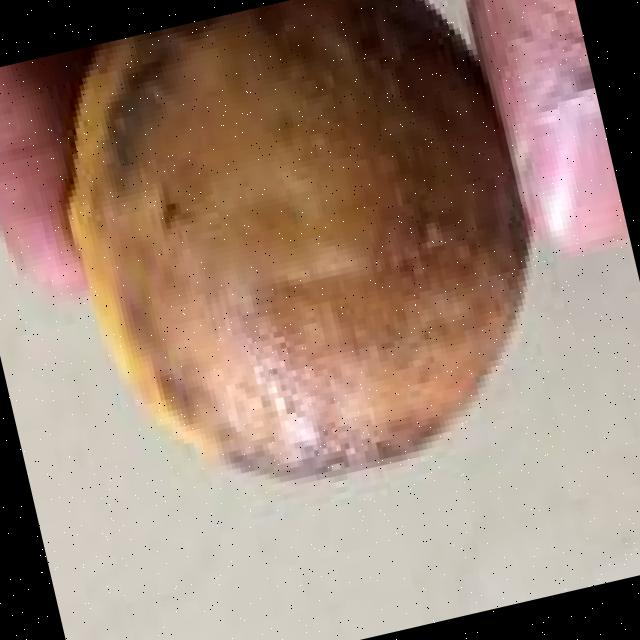Bad_Lime-0-1-day: (65, 0, 537, 485)
